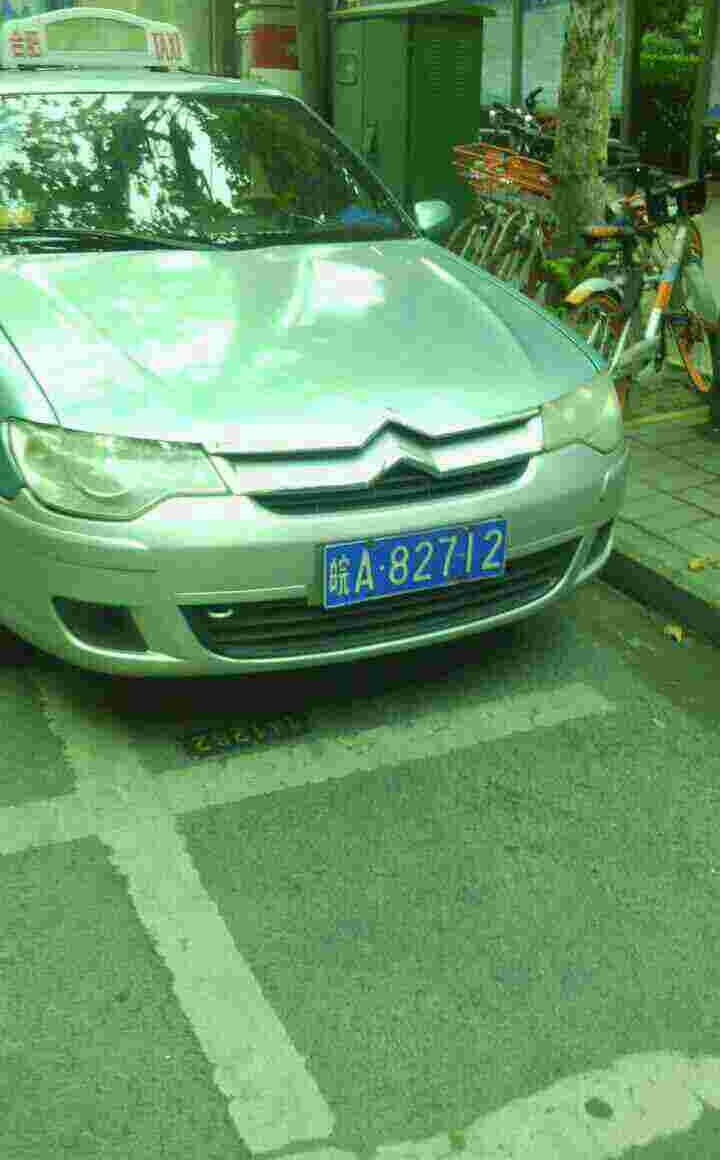plate: (326, 512, 514, 610)
